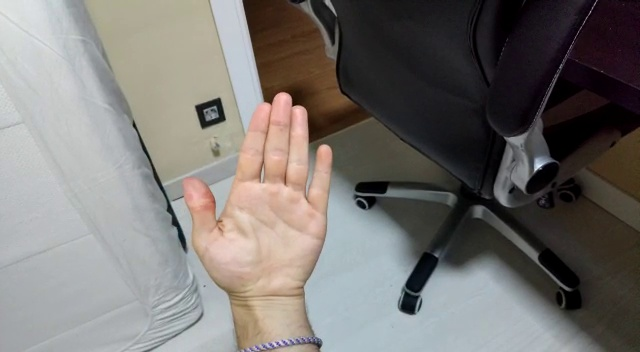Palm: (180, 87, 337, 311)
